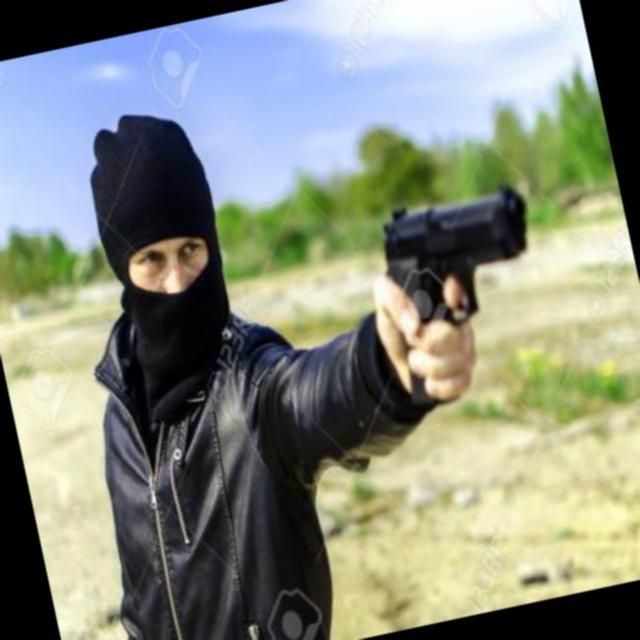weapon: (353, 170, 577, 432)
